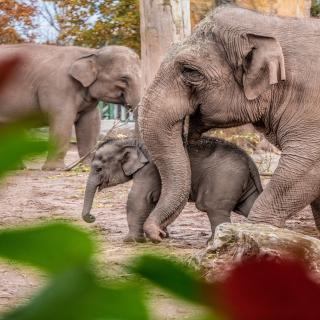Elephant: (142, 4, 320, 249), (79, 132, 273, 250), (0, 31, 148, 168)
